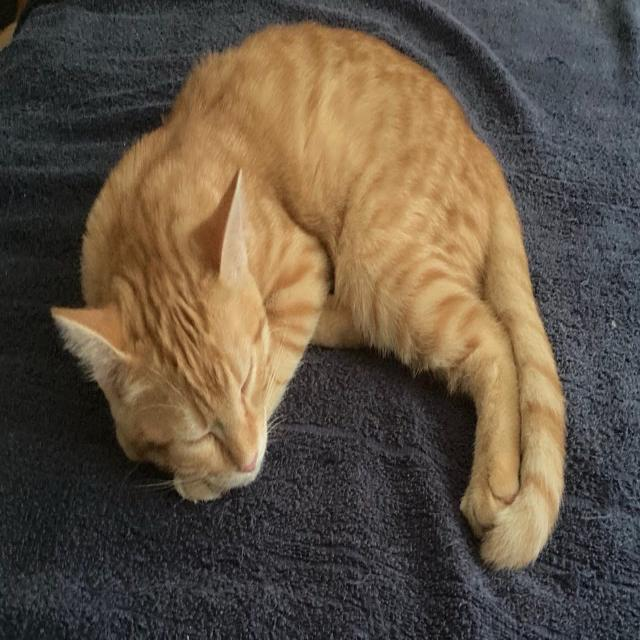red_cat: (53, 19, 569, 582)
